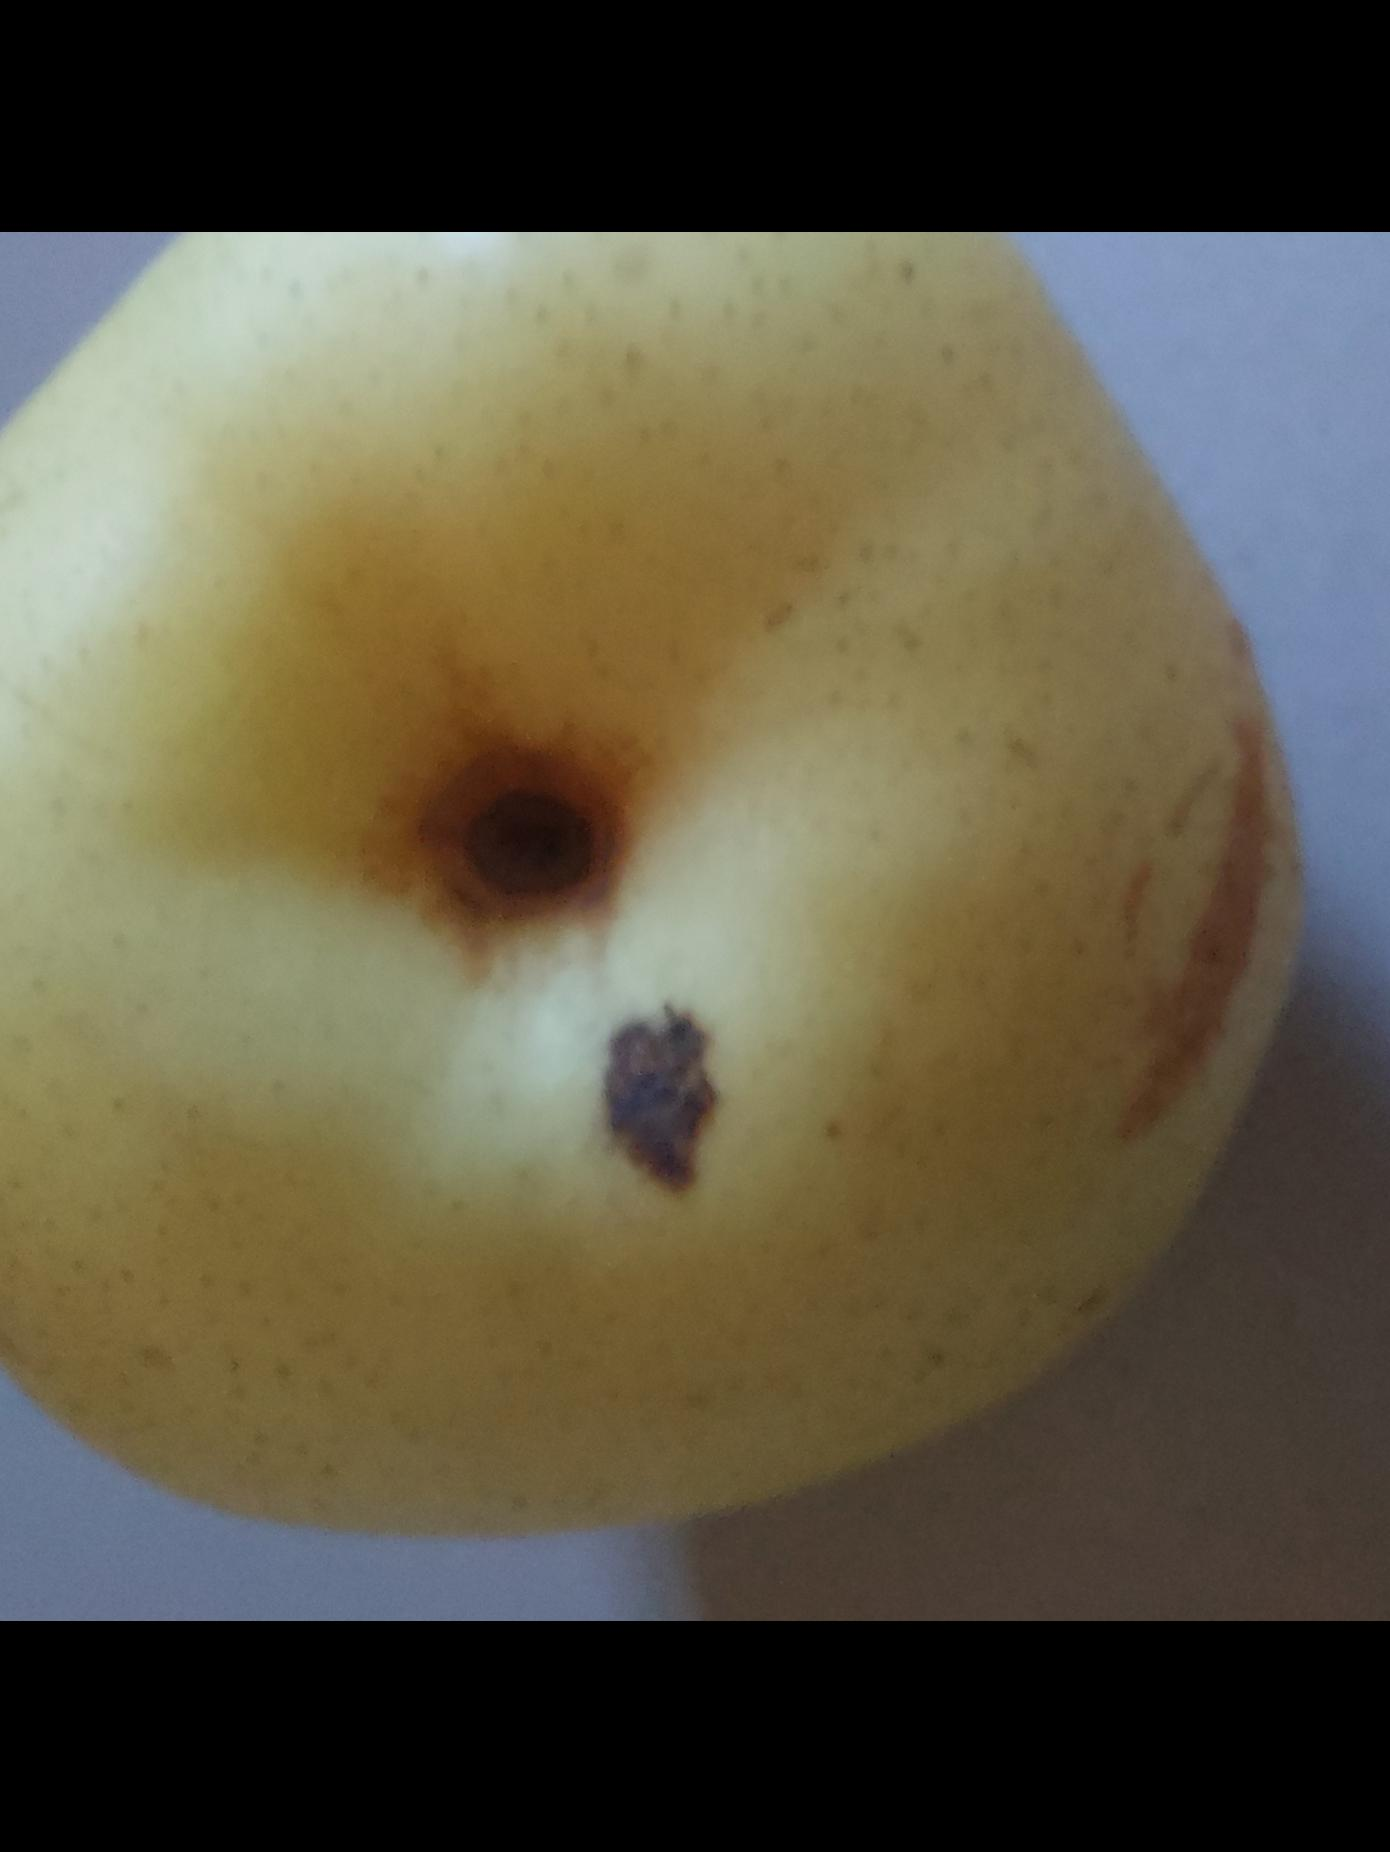Good Pear: (0, 231, 1333, 1543)
